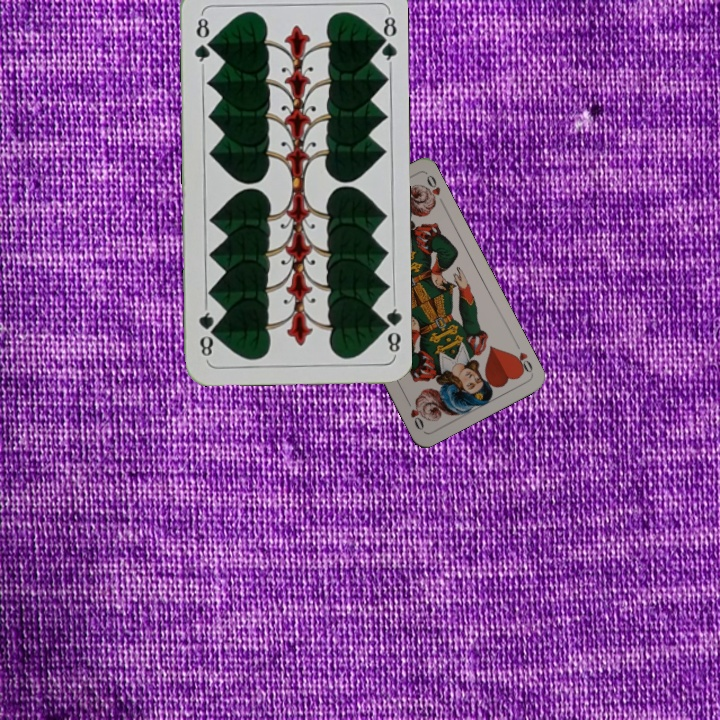G8: (376, 298, 403, 357), (190, 11, 214, 70)
HO: (508, 338, 535, 377)
